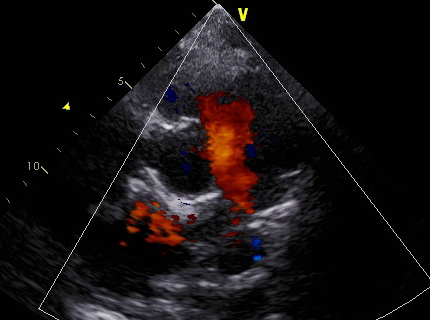PR: (200, 97, 288, 230)
